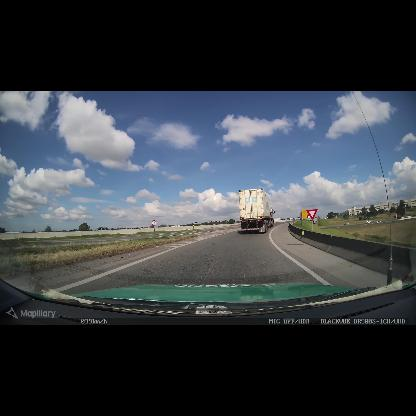O-MP: (192, 223, 194, 229)
R-2: (306, 209, 318, 221)
R-24a: (152, 220, 156, 226)
